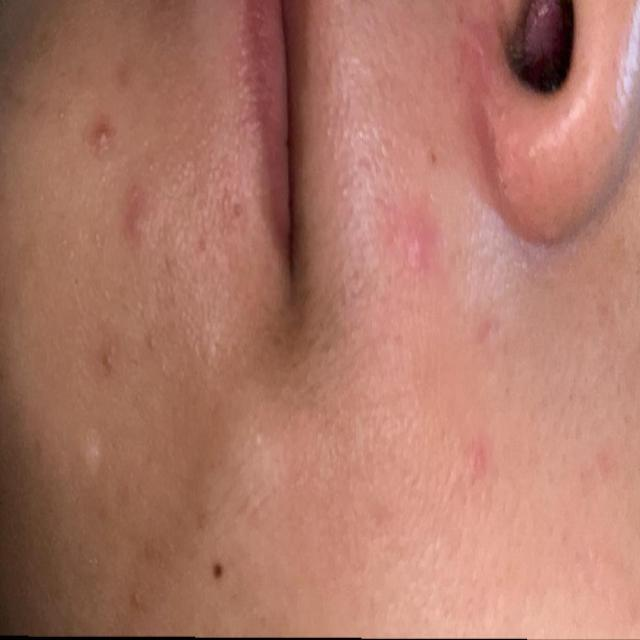papule: (112, 170, 181, 283), (381, 206, 447, 302), (443, 437, 501, 482)
pustule: (71, 122, 127, 170)
